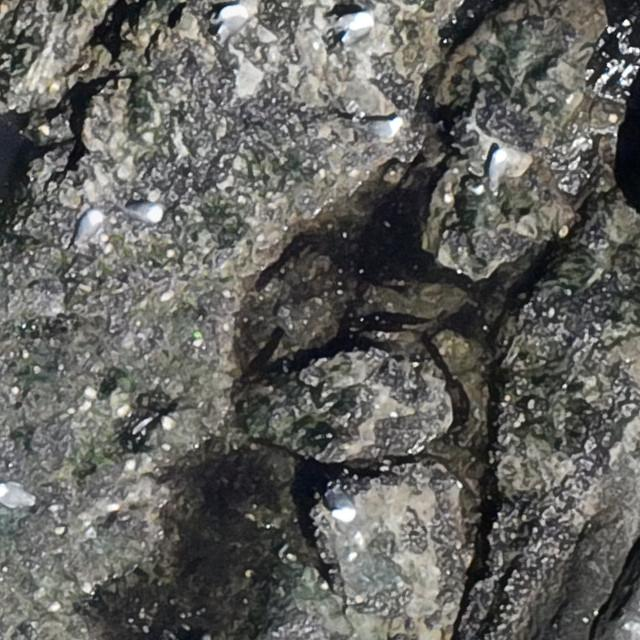umineko: (212, 6, 248, 44), (68, 210, 104, 244), (325, 490, 357, 520), (0, 483, 36, 509), (358, 118, 404, 138), (124, 200, 161, 222), (489, 149, 508, 184), (341, 14, 369, 36)
